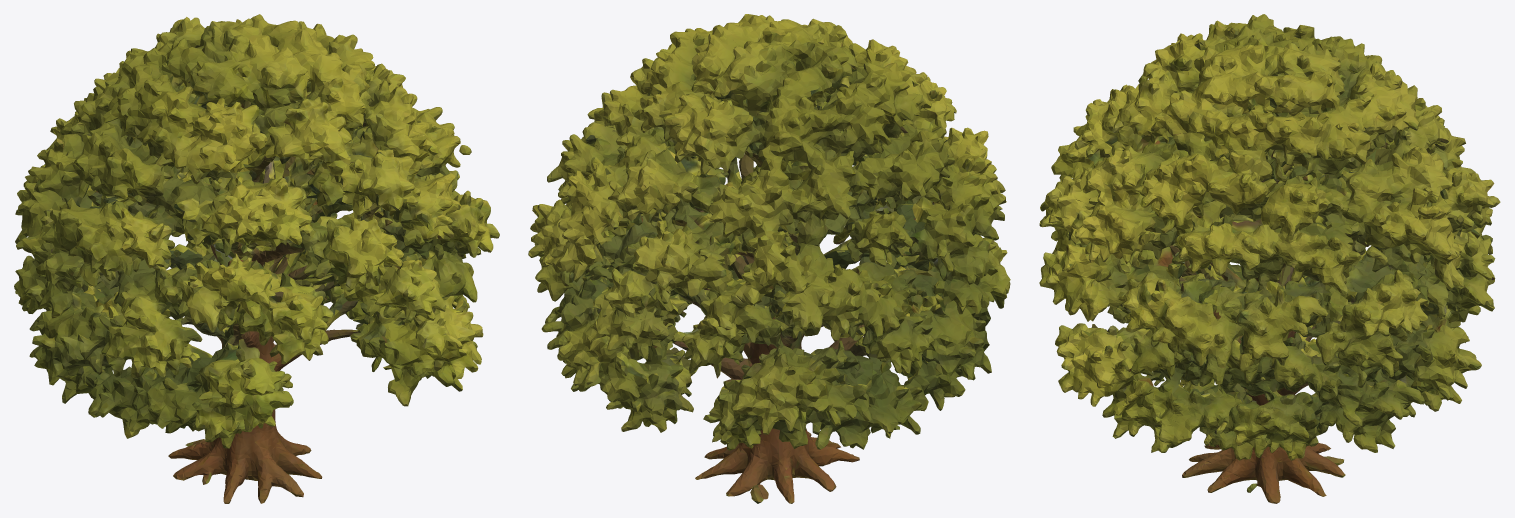
Rendered from prop-tree_oak.glb.
The picture shows the model from 3 angles, left to right: view 1: azimuth 30°, elevation 25°; view 2: azimuth 150°, elevation 25°; view 3: azimuth 270°, elevation 25°; orthographic projection.
Parts seen in each view (by area): view 1: geometry_0; view 2: geometry_0; view 3: geometry_0.
Part boxes in pixels (x1,y1,x2,y2): geometry_0: (14, 14, 499, 503); geometry_0: (528, 14, 1010, 503); geometry_0: (1039, 14, 1500, 503).
Bounding box in the file's own units: 2.01 × 1.99 × 1.94.
1 material, 1 textured.
